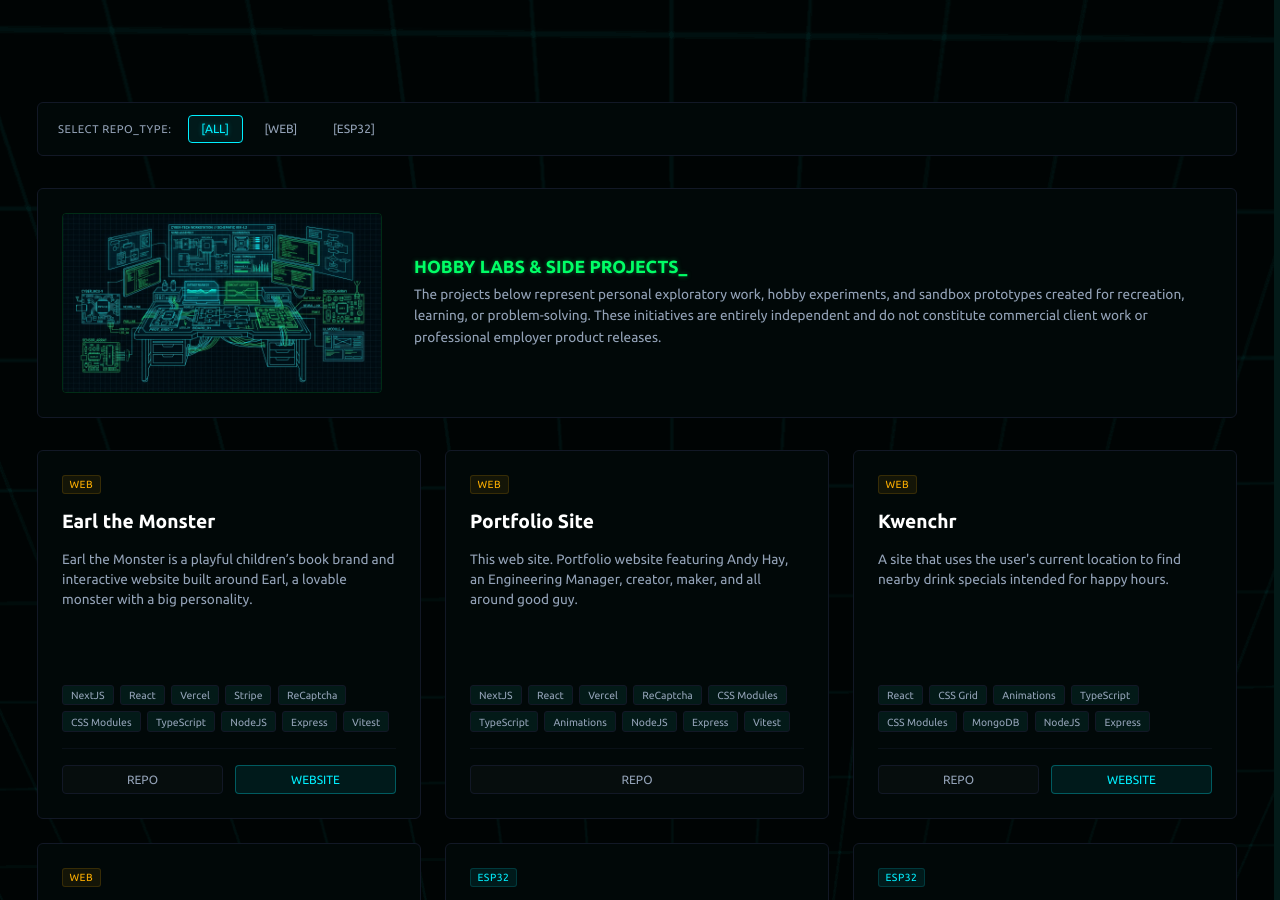
Test: ProjectsPage Component › filters project cards list dynamically based on selected button filter tag
Filter by ESP32
Click the button "[ESP32]" at (354, 129), box [319,115,389,143]
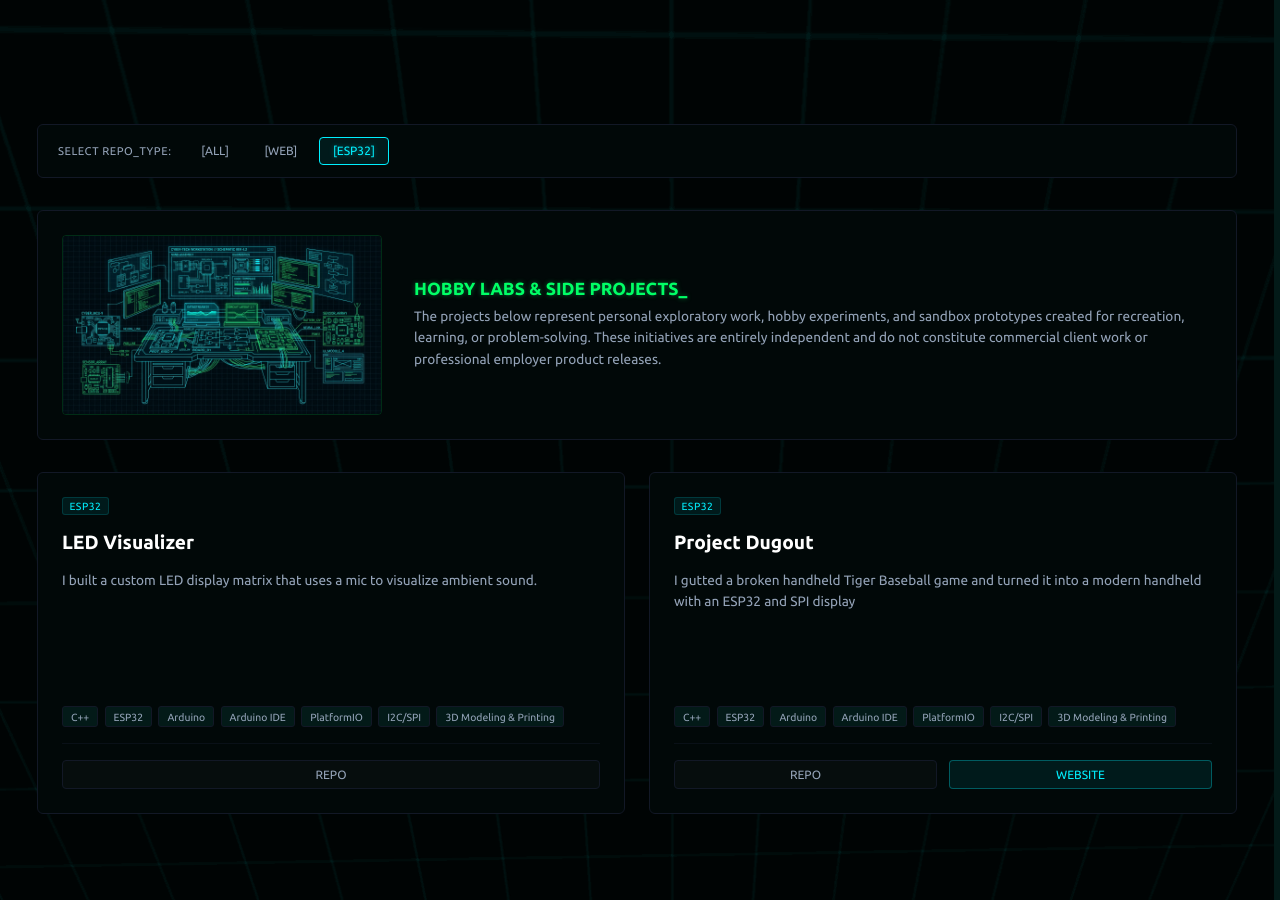
Expected: the heading "LED Visualizer" is shown, [62,531,194,553]
Result: the heading "Earl the Monster" is gone
